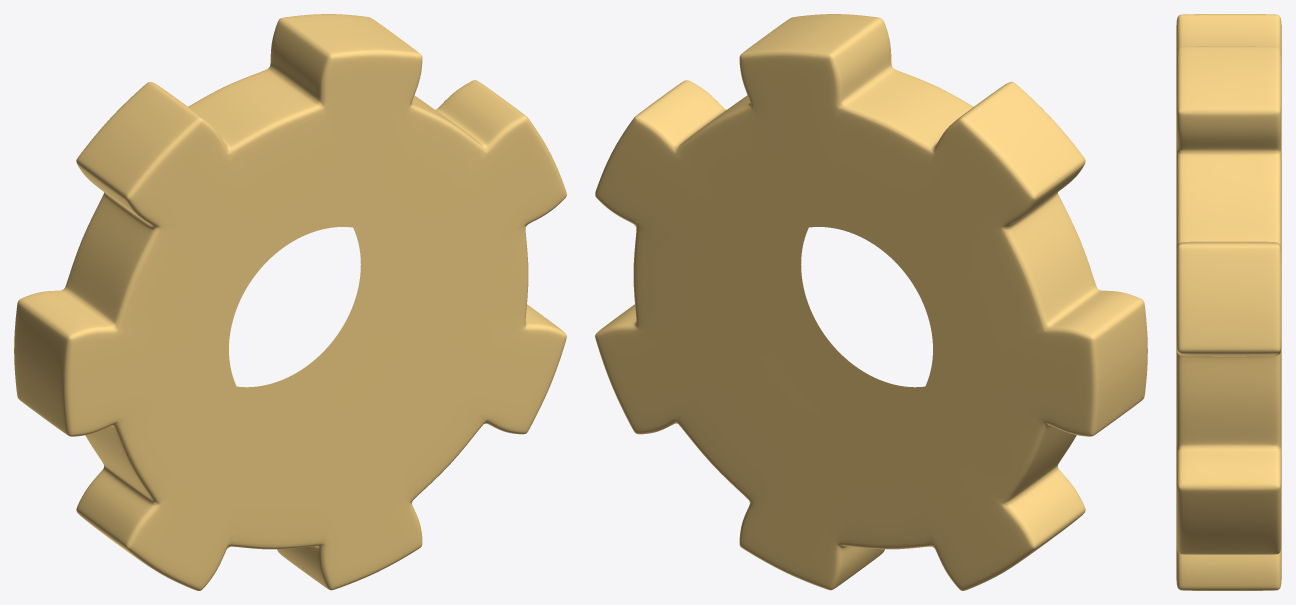
Rendered from Power Time.fbx.
3 renders of one model, left to right at view 1: azimuth 30°, elevation 25°; view 2: azimuth 150°, elevation 25°; view 3: azimuth 270°, elevation 25°, orthographic. The views are drawn at different scales.
Visible parts, largest first — view 1: Slow; view 2: Slow; view 3: Slow.
Boxes of the visible parts, x1,y1,x2,y2 form: Slow: [14, 14, 566, 590]; Slow: [595, 14, 1147, 590]; Slow: [1176, 14, 1281, 590].
Size of the model in its own units: 0.8399 by 0.8554 by 0.1563.
